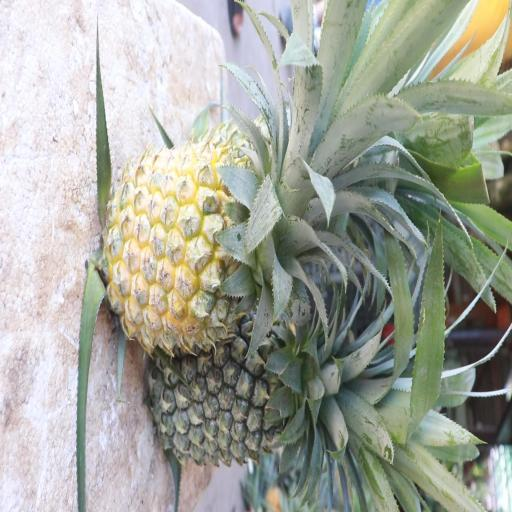Pineapple - v8 v1: (109, 146, 321, 349)
